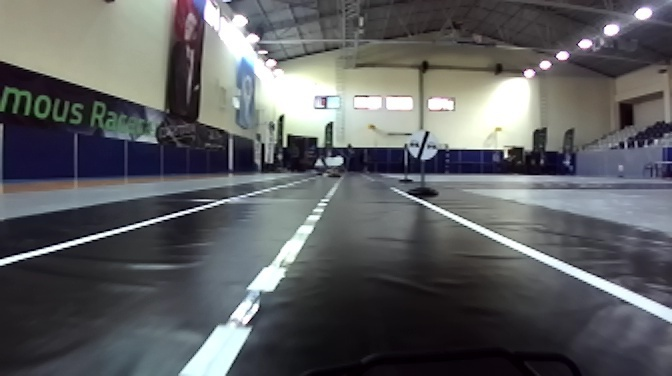sollama_serbest: (404, 128, 439, 158)
